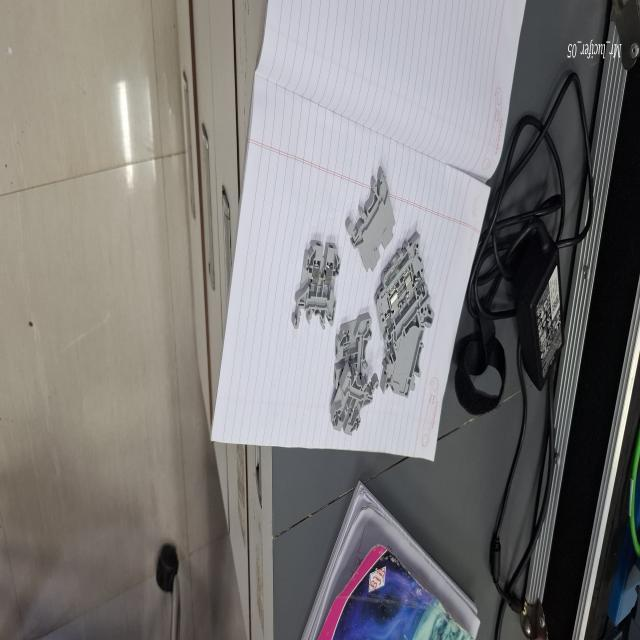Inverted: (347, 171, 397, 281)
Pass: (290, 228, 341, 330)
Reject: (330, 350, 374, 444)
